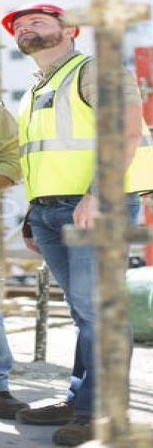boots: (15, 401, 75, 425), (52, 415, 94, 447)
hard-hat: (0, 2, 74, 45)
vest: (0, 91, 72, 213)
